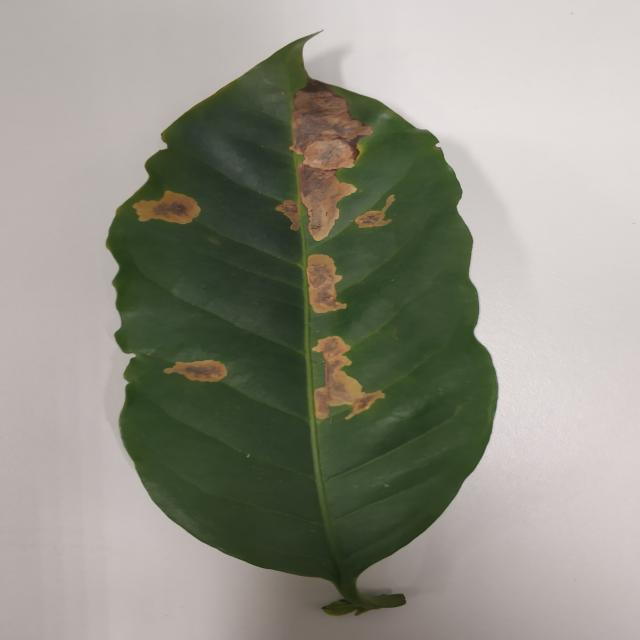Plaga-Minador: (104, 36, 500, 618)
